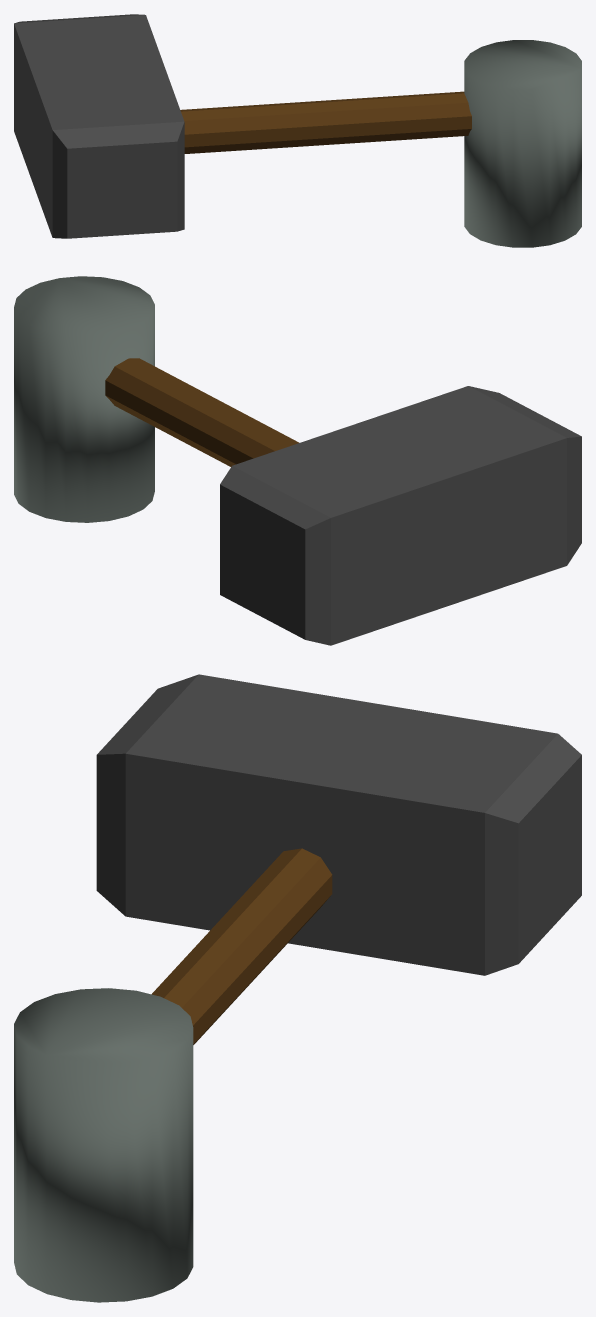
The model's file is Hammer.fbx.
3 views of the same model, one above another, from view 1: azimuth 30°, elevation 25°; view 2: azimuth 150°, elevation 25°; view 3: azimuth 270°, elevation 25° (orthographic). The views are drawn at different scales.
Parts seen in each view (by area): view 1: Cylinder; view 2: Cylinder; view 3: Cylinder.
Part boxes in pixels (bbox=[...]): Cylinder: bbox=[14, 14, 581, 247]; Cylinder: bbox=[14, 276, 581, 645]; Cylinder: bbox=[14, 674, 581, 1302].
Size of the model in its own units: 951 by 328 by 632.
